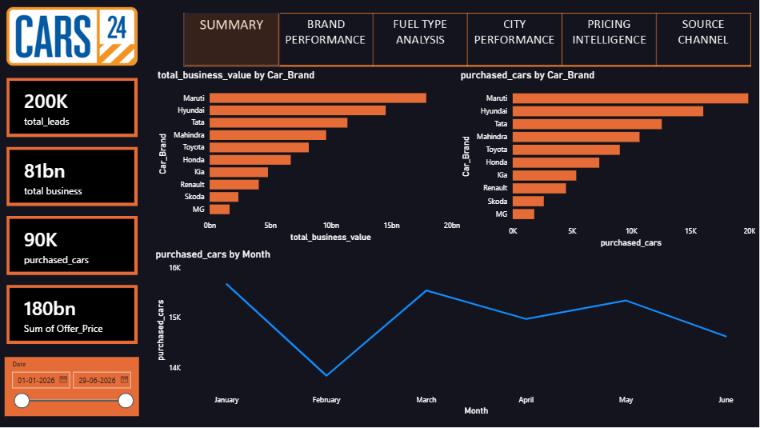

This screenshot's page, from the dashboard's own definition file:
{"tool":"powerbi","page":{"name":"summary","canvas":[1280,720],"ordinal":0},"visuals":[{"type":"barChart","fields":{"Category":["Cars24_Realistic_Dataset_FULL_c.Car_Brand"],"Y":["Cars24_Realistic_Dataset_FULL_c.purchased_cars"]},"box":[771.4,115.7,491.4,297.1],"z":0},{"type":"clusteredBarChart","fields":{"Y":["Cars24_Realistic_Dataset_FULL_c.total_buisness_value"],"Category":["Cars24_Realistic_Dataset_FULL_c.Car_Brand"]},"box":[267.1,115.7,504.3,288.6],"z":1000},{"type":"lineChart","fields":{"Y":["Cars24_Realistic_Dataset_FULL_c.purchased_cars"],"Category":["Cars24_Realistic_Dataset_FULL_c.Date.Variation.Date Hierarchy.Month"]},"box":[262.9,412.9,1017.1,280],"z":2000},{"type":"cardVisual","fields":{"Data":["Cars24_Realistic_Dataset_FULL_c.total_leads"]},"box":[15.7,130,218.6,98.6],"z":3000},{"type":"cardVisual","fields":{"Data":["Sum(Cars24_Realistic_Dataset_FULL_c.Offer_Price)"]},"box":[15.7,475.7,218.6,98.6],"z":4000},{"type":"cardVisual","fields":{"Data":["Cars24_Realistic_Dataset_FULL_c.purchased_cars"]},"box":[15.7,360,218.6,98.6],"z":5000},{"type":"cardVisual","fields":{"Data":["Cars24_Realistic_Dataset_FULL_c.total_buisness_value"]},"box":[15.7,245.7,218.6,98.6],"z":6000},{"type":"slicer","fields":{"Values":["Cars24_Realistic_Dataset_FULL_c.Date"]},"box":[11.4,594.3,222.9,98.6],"z":7000},{"type":"actionButton","box":[470,22.7,154.5,92.7],"z":7002},{"type":"actionButton","box":[624.5,22.7,158.2,92.7],"z":7003},{"type":"actionButton","box":[782.7,22.7,158.2,92.7],"z":7004},{"type":"actionButton","box":[940.9,22.7,158.2,92.7],"z":7005},{"type":"actionButton","box":[1099.1,22.7,158.2,92.7],"z":7006}]}

Visuals, with their boxes in screenshot pixels (x1, y1, x2, y2), scaled from the page's 1280x720 canvas onto the 760x428 screenshot:
barChart - Cars24_Realistic_Dataset_FULL_c.Car_Brand x Cars24_Realistic_Dataset_FULL_c.purchased_cars: (left=458, top=69, right=750, bottom=245)
clusteredBarChart - Cars24_Realistic_Dataset_FULL_c.total_buisness_value x Cars24_Realistic_Dataset_FULL_c.Car_Brand: (left=159, top=69, right=458, bottom=240)
lineChart - Cars24_Realistic_Dataset_FULL_c.purchased_cars x Cars24_Realistic_Dataset_FULL_c.Date.Variation.Date Hierarchy.Month: (left=156, top=245, right=759, bottom=412)
cardVisual - Cars24_Realistic_Dataset_FULL_c.total_leads: (left=9, top=77, right=139, bottom=136)
cardVisual - Sum(Cars24_Realistic_Dataset_FULL_c.Offer_Price): (left=9, top=283, right=139, bottom=341)
cardVisual - Cars24_Realistic_Dataset_FULL_c.purchased_cars: (left=9, top=214, right=139, bottom=273)
cardVisual - Cars24_Realistic_Dataset_FULL_c.total_buisness_value: (left=9, top=146, right=139, bottom=205)
slicer - Cars24_Realistic_Dataset_FULL_c.Date: (left=7, top=353, right=139, bottom=412)
actionButton: (left=279, top=13, right=371, bottom=69)
actionButton: (left=371, top=13, right=465, bottom=69)
actionButton: (left=465, top=13, right=559, bottom=69)
actionButton: (left=559, top=13, right=653, bottom=69)
actionButton: (left=653, top=13, right=747, bottom=69)
